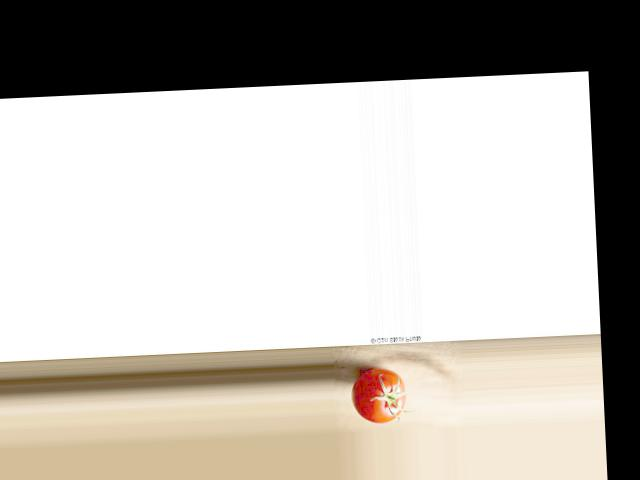tomato: (351, 367, 408, 423)
